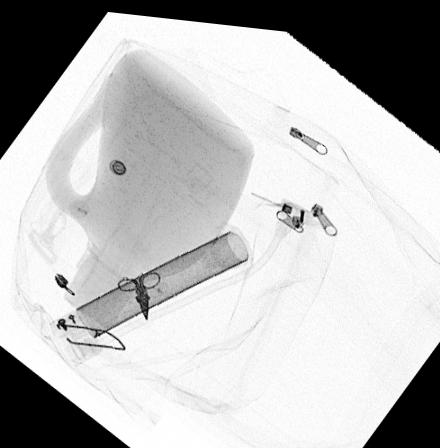Scissors: (115, 263, 162, 316)
